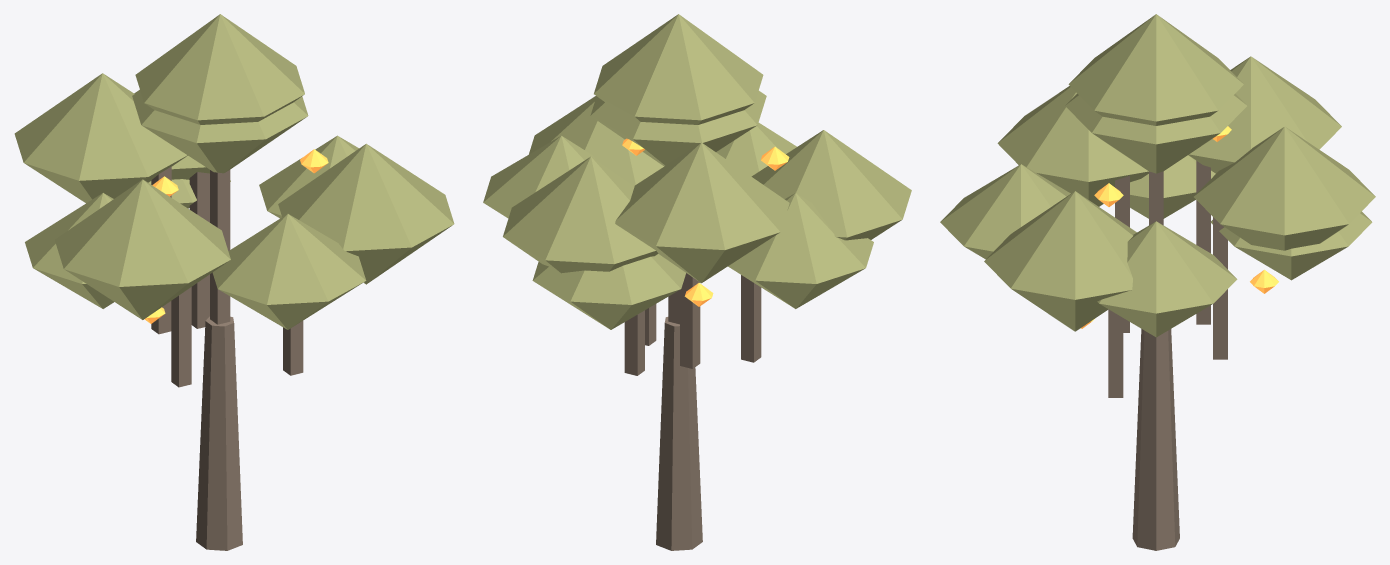
File: flora_17_persimmon_cay_hong_chin_do_trai_mat_tree.glb
The picture shows the model from 3 angles, left to right: view 1: azimuth 30°, elevation 25°; view 2: azimuth 150°, elevation 25°; view 3: azimuth 270°, elevation 25°; orthographic projection.
Parts seen in each view (by area): view 1: flora_17_persimmon_cay_hong_chin_do_trai_mat_tree; view 2: flora_17_persimmon_cay_hong_chin_do_trai_mat_tree; view 3: flora_17_persimmon_cay_hong_chin_do_trai_mat_tree.
Boxes of the visible parts, x1,y1,x2,y2 form: flora_17_persimmon_cay_hong_chin_do_trai_mat_tree: (14,14,454,550); flora_17_persimmon_cay_hong_chin_do_trai_mat_tree: (483,14,911,550); flora_17_persimmon_cay_hong_chin_do_trai_mat_tree: (940,14,1375,550).
Size of the model in its own units: 6.45 by 8.6 by 6.45.
